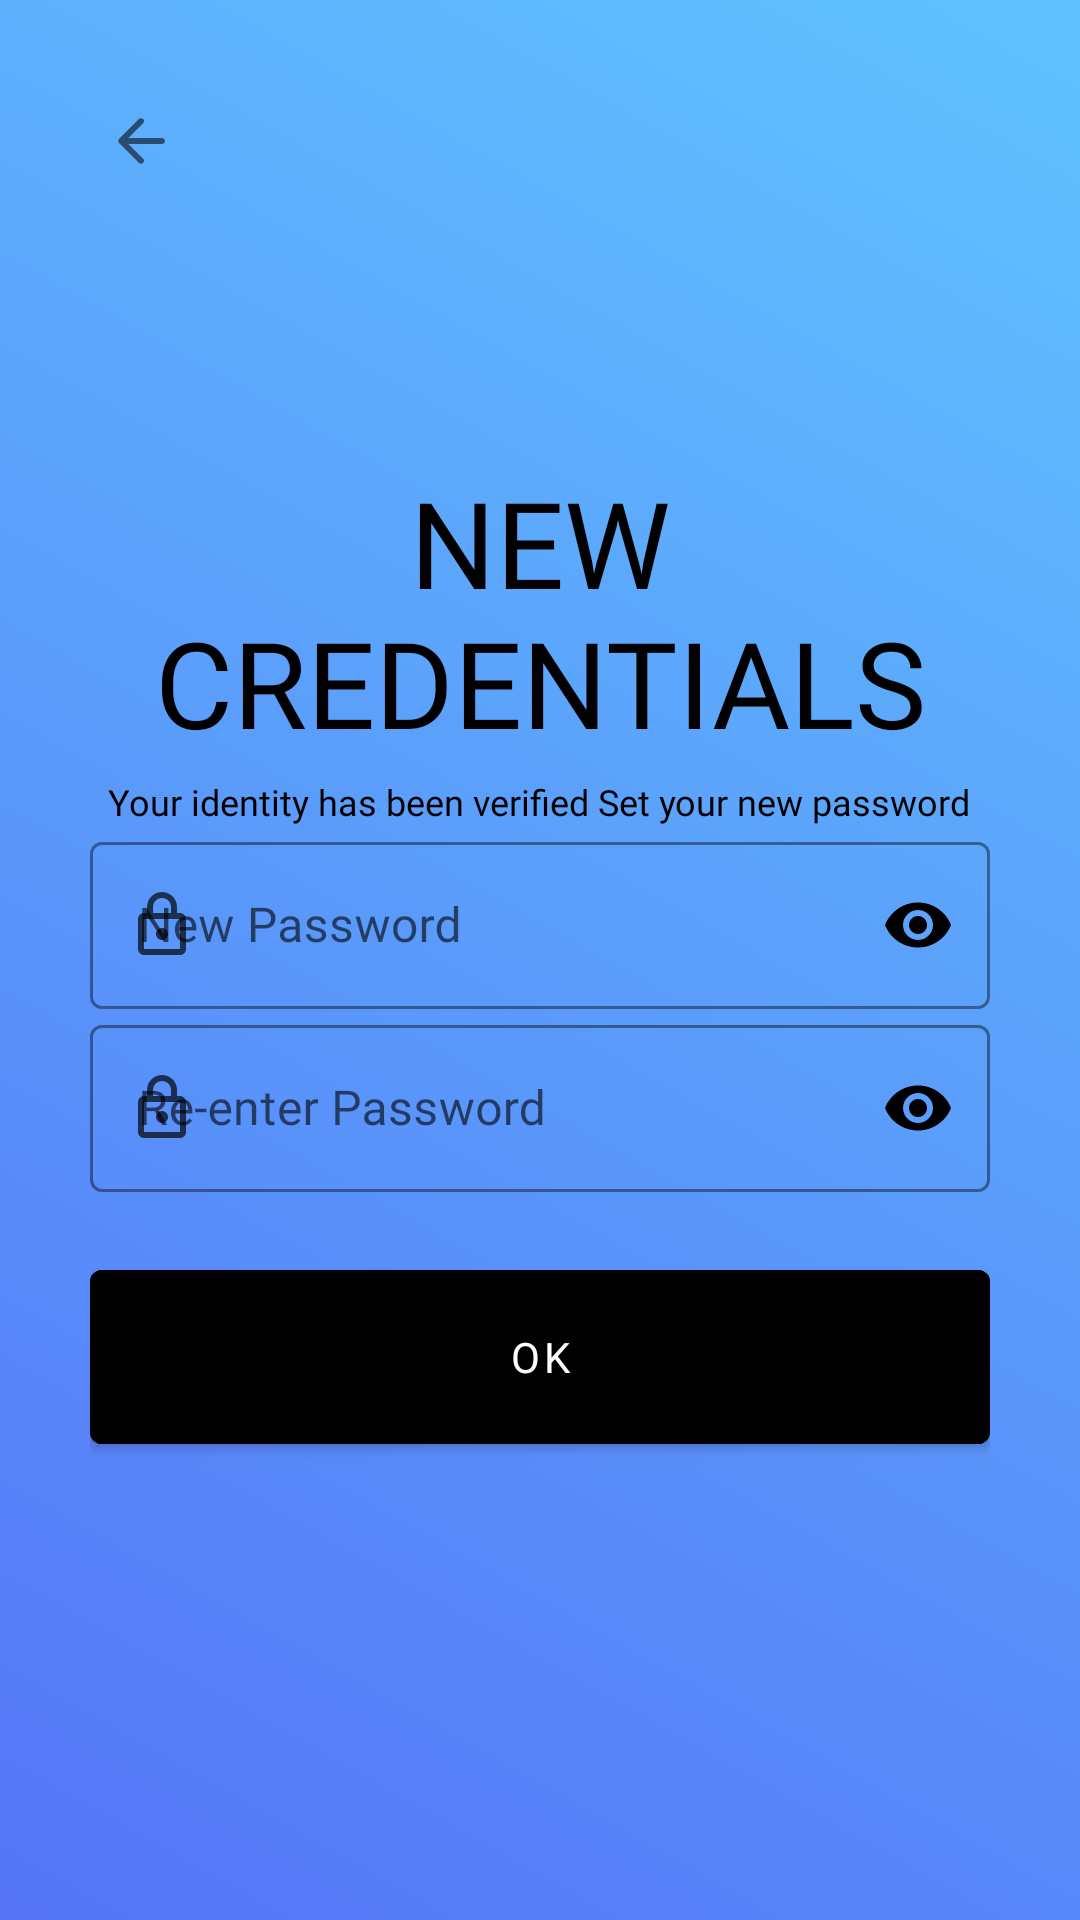

Icon bounding boxes for this 1080*1920 phone screenshot, format (x1, y1, x2, y2):
back: (118, 118, 165, 164)
